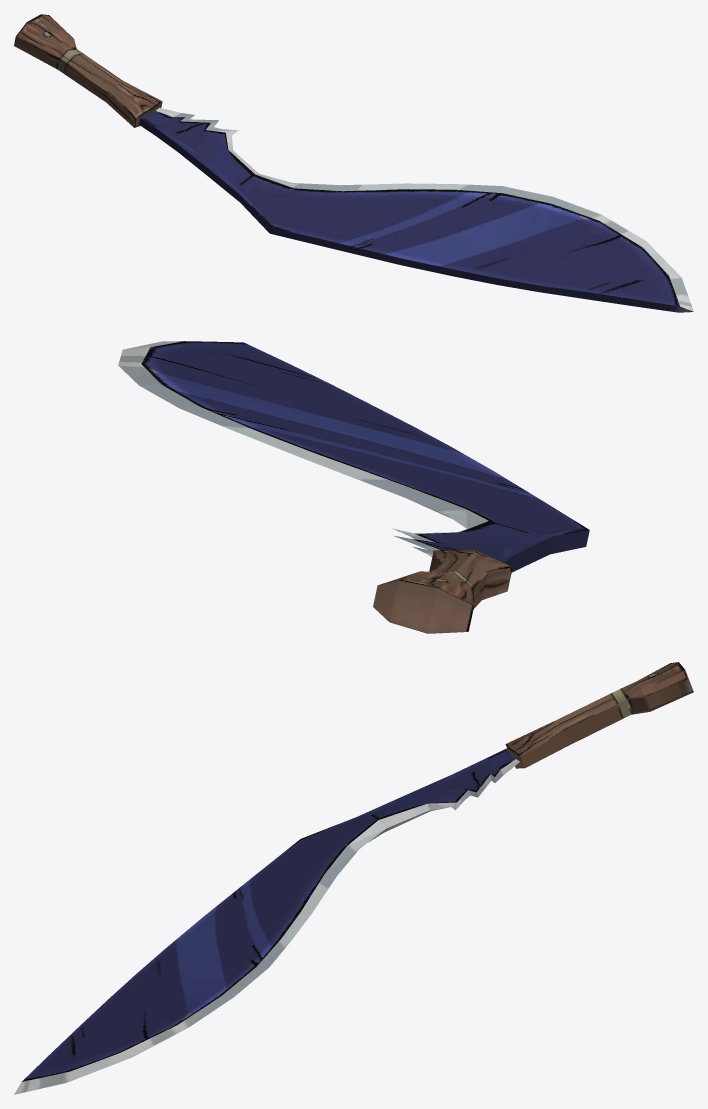
The model's file is WaponDao3.FBX.
3 renders of one model, top to bottom at view 1: azimuth 30°, elevation 25°; view 2: azimuth 150°, elevation 25°; view 3: azimuth 270°, elevation 25°, orthographic. The views are drawn at different scales.
Parts seen in each view (by area): view 1: dao; view 2: dao; view 3: dao.
Part boxes in pixels (x1=…): dao: x1=14, y1=14, x2=693, y2=312; dao: x1=118, y1=341, x2=589, y2=633; dao: x1=14, y1=662, x2=693, y2=1094.
Bounding box in the file's own units: 4.9 × 5.94 × 2.07.
